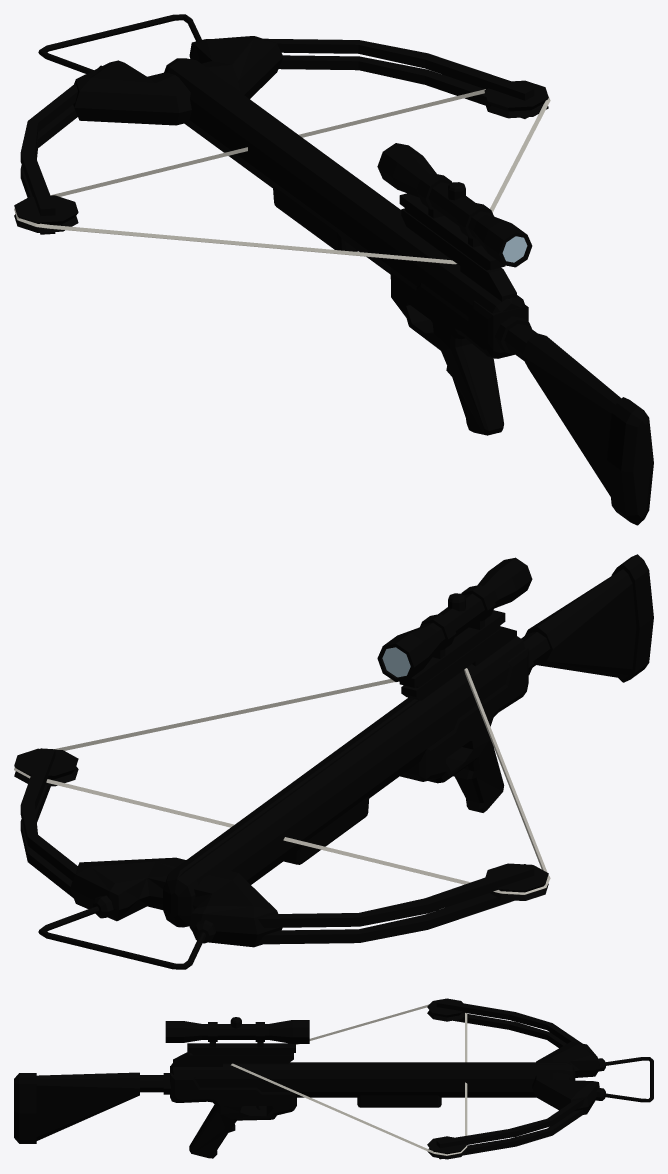
The model's file is scene_p4CEAmu1li.glb.
The picture shows the model from 3 angles, top to bottom: view 1: azimuth 30°, elevation 25°; view 2: azimuth 150°, elevation 25°; view 3: azimuth 270°, elevation 25°; orthographic projection. The views are drawn at different scales.
Parts seen in each view (by area): view 1: Crossbow; view 2: Crossbow; view 3: Crossbow.
Boxes of the visible parts, bbox=[...] form: Crossbow: bbox=[14, 14, 653, 525]; Crossbow: bbox=[14, 554, 653, 969]; Crossbow: bbox=[14, 998, 653, 1159].
Size of the model in its own units: 1.08 by 0.4475 by 1.88.
Materials: 1 (1 with a texture image).
